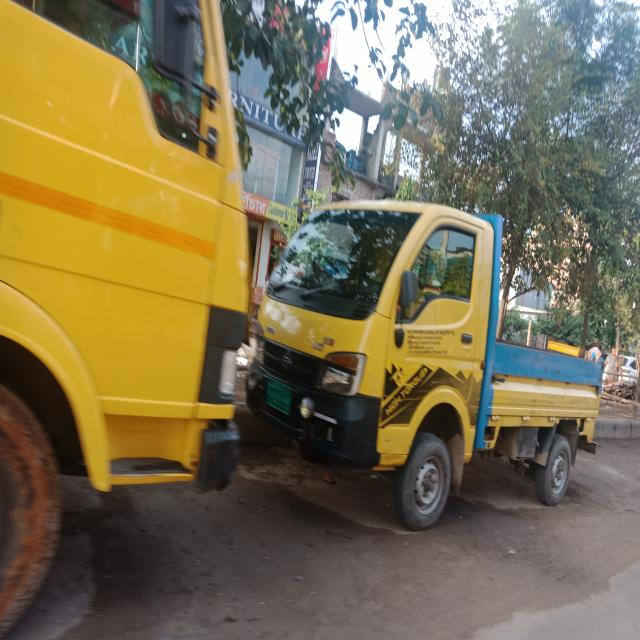truck: (245, 200, 603, 531)
